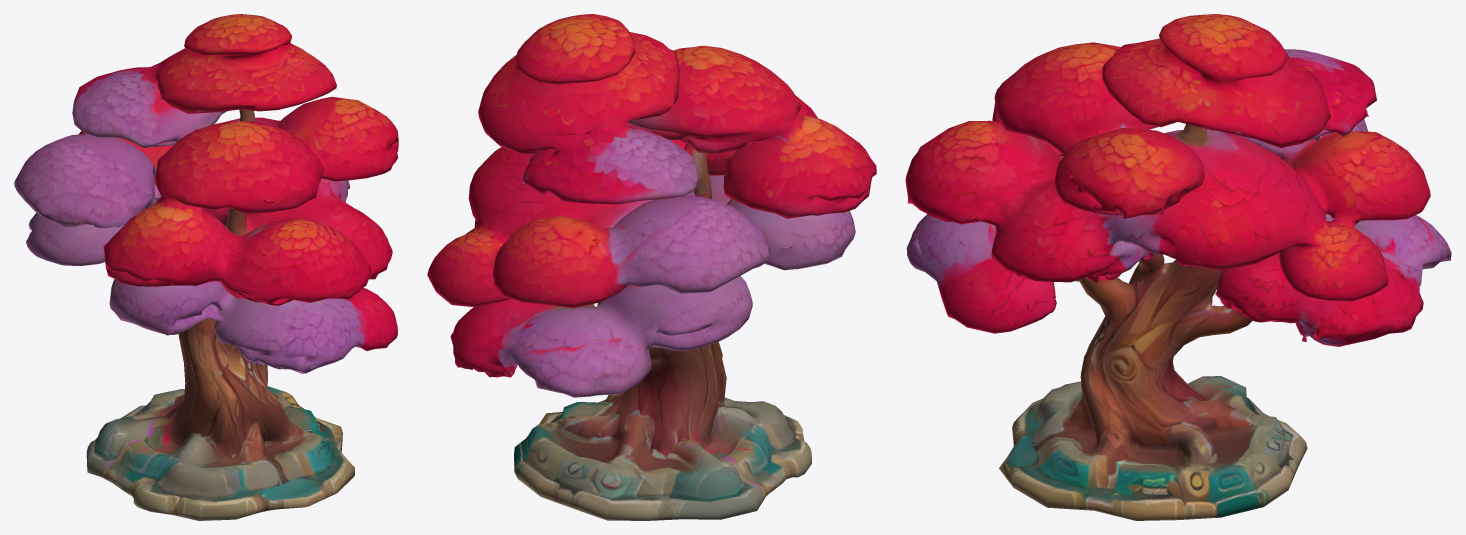
File: 08-garden-pink-blossom-tree.glb
3 renders of one model, left to right at view 1: azimuth 30°, elevation 25°; view 2: azimuth 150°, elevation 25°; view 3: azimuth 270°, elevation 25°, orthographic. The views are drawn at different scales.
Parts seen in each view (by area): view 1: tripo_node_88e83819; view 2: tripo_node_88e83819; view 3: tripo_node_88e83819.
Part boxes in pixels (x1,y1,x2,y2): tripo_node_88e83819: (14, 14, 398, 520); tripo_node_88e83819: (427, 14, 876, 520); tripo_node_88e83819: (905, 14, 1451, 520).
Size of the model in its own units: 0.4383 by 0.6 by 0.5854.
1 material, 1 textured.
